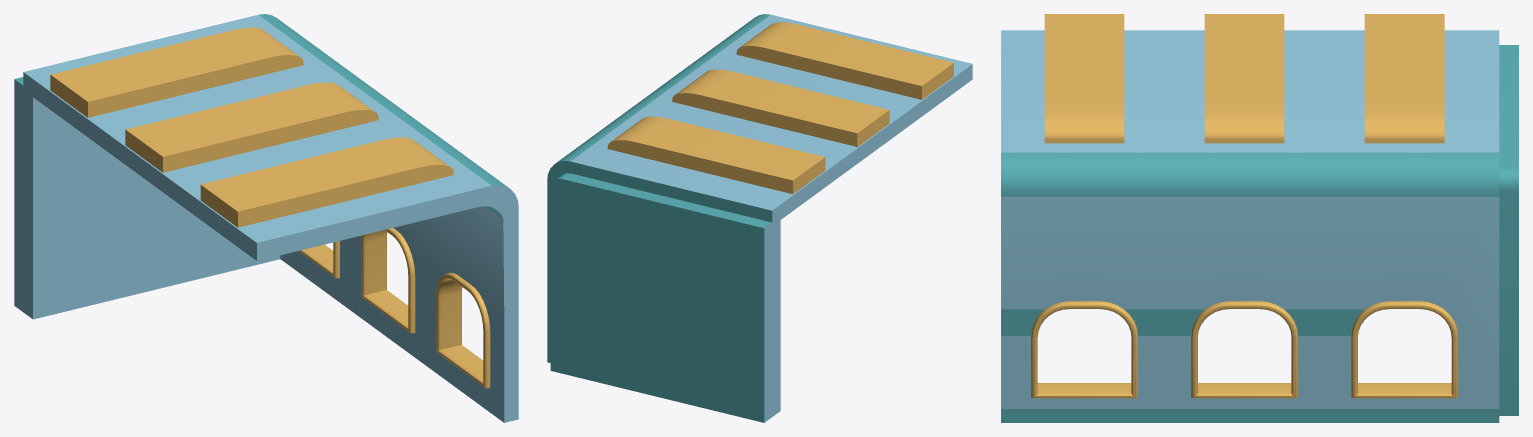
The model's file is techo_3.fbx.
The picture shows the model from 3 angles, left to right: view 1: azimuth 30°, elevation 25°; view 2: azimuth 150°, elevation 25°; view 3: azimuth 270°, elevation 25°; orthographic projection. The views are drawn at different scales.
Visible parts, largest first — view 1: Cylinder.003; view 2: Cylinder.003; view 3: Cylinder.003.
Boxes of the visible parts, x1=… form: Cylinder.003: x1=14, y1=14, x2=518, y2=422; Cylinder.003: x1=547, y1=14, x2=972, y2=422; Cylinder.003: x1=1001, y1=14, x2=1518, y2=422.
Size of the model in its own units: 824 by 755 by 1296.
